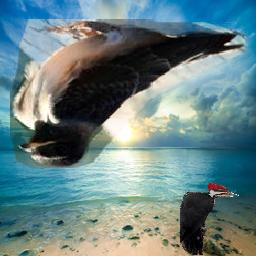Swallow: (10, 20, 248, 169)
Woodpecker: (181, 183, 240, 256)
